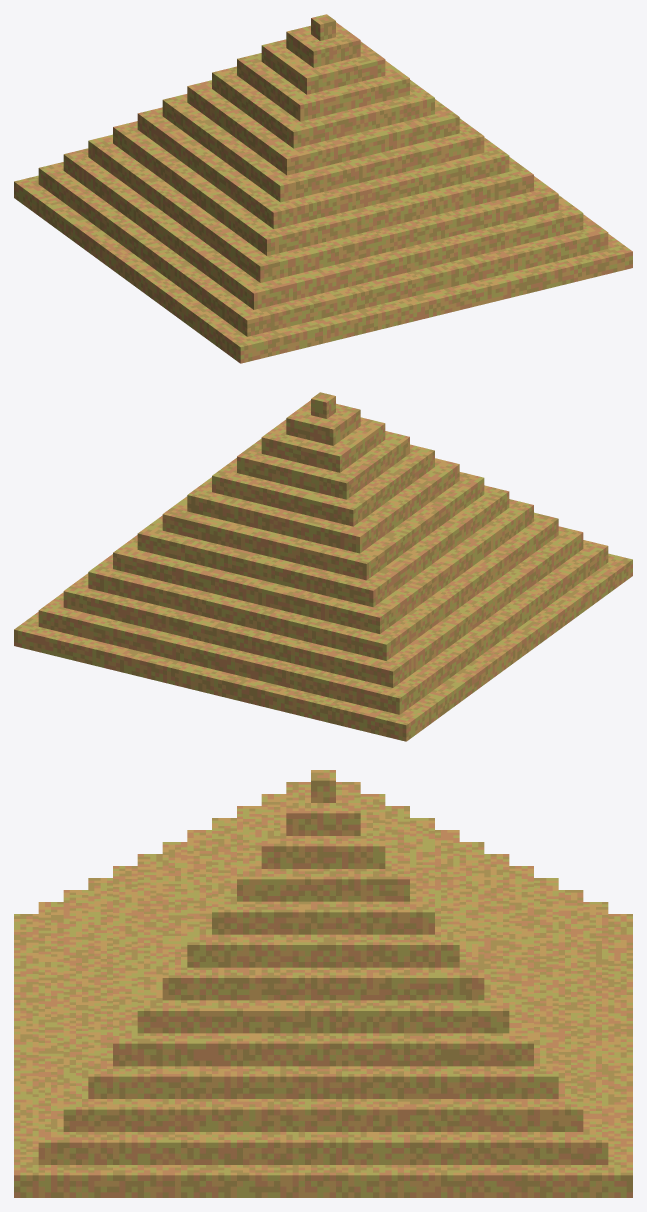
File: piramide.obj
3 renders of one model, top to bottom at view 1: azimuth 30°, elevation 25°; view 2: azimuth 150°, elevation 25°; view 3: azimuth 270°, elevation 25°, orthographic. The views are drawn at different scales.
Bounding box in the file's own units: 10 × 5.2 × 10.
Materials: 1 (1 with a texture image).
